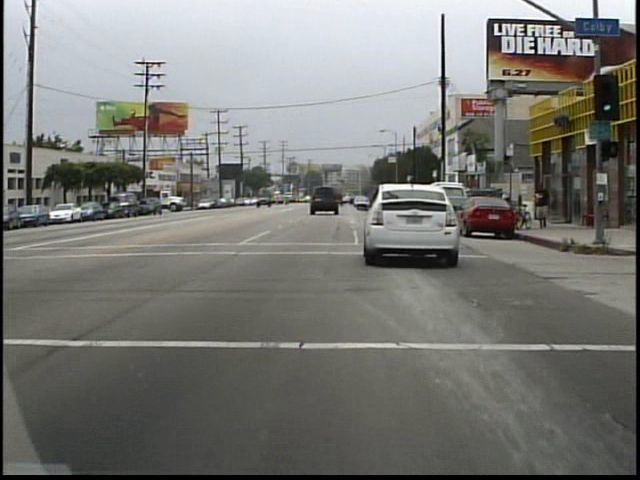person: (534, 177, 555, 233)
